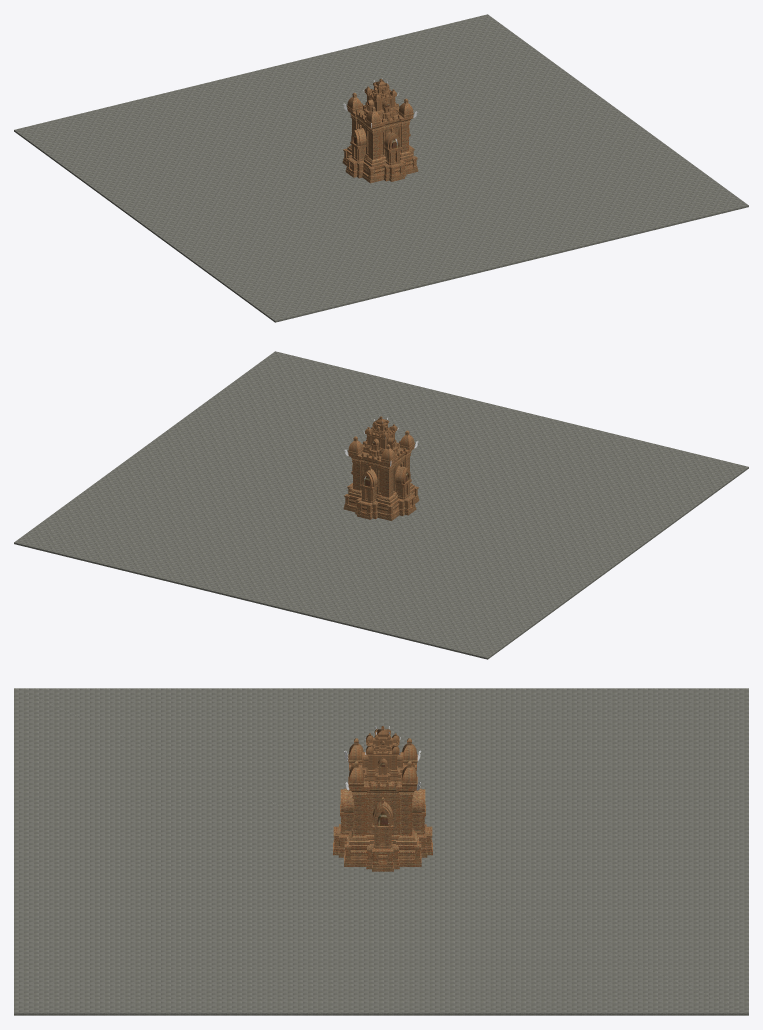
The model's file is champa11.glb.
The picture shows the model from 3 angles, top to bottom: view 1: azimuth 30°, elevation 25°; view 2: azimuth 150°, elevation 25°; view 3: azimuth 270°, elevation 25°; orthographic projection. The views are drawn at different scales.
Visible parts, largest first — view 1: Object_3, Object_2; view 2: Object_3, Object_2; view 3: Object_3, Object_2.
Part boxes in pixels (x1,y1,x2,y2): Object_3: [14, 14, 748, 322]; Object_2: [342, 79, 418, 183]; Object_3: [14, 351, 748, 659]; Object_2: [343, 416, 419, 520]; Object_3: [14, 688, 748, 1015]; Object_2: [333, 726, 432, 871].
Size of the model in its own units: 6935 by 1843 by 6623.
Materials: 3 (2 with a texture image).
